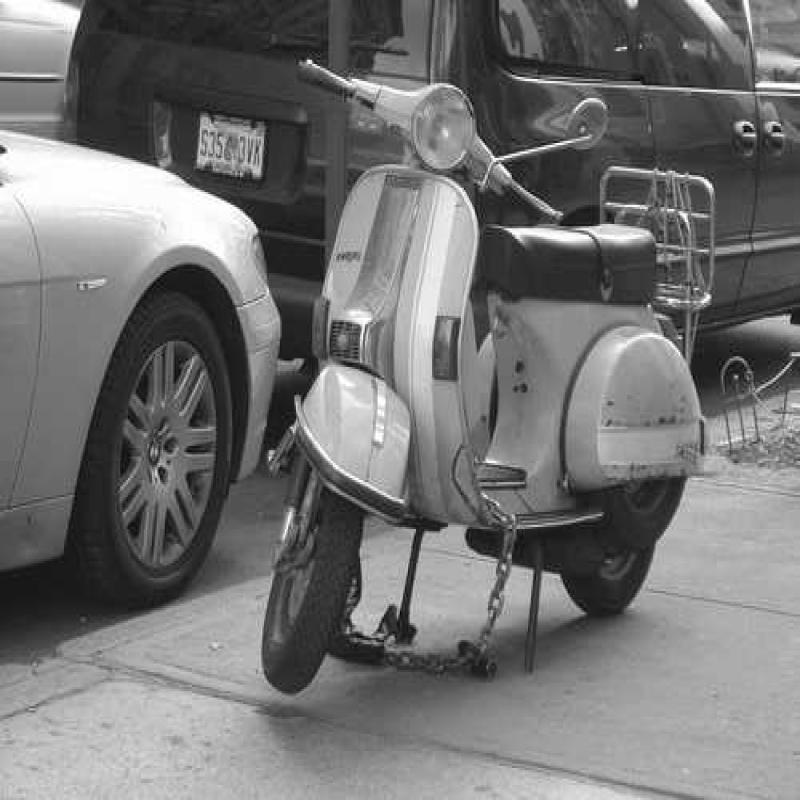bike: (267, 19, 716, 701)
